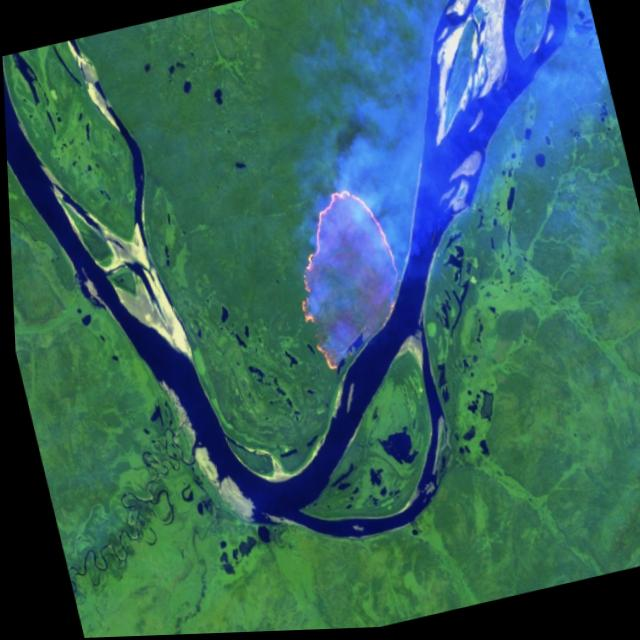fire: (268, 176, 418, 380)
